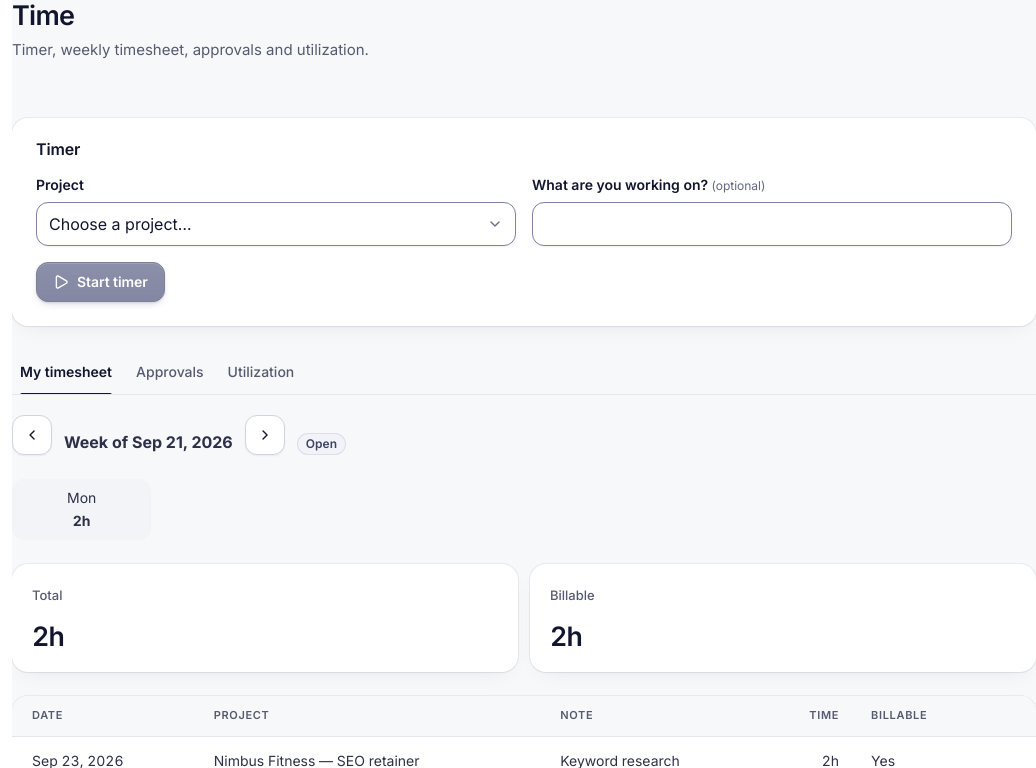
Test: Timesheet approvals › offers no decision on my own submitted week (someone else approves it) but does on a colleague’s
Click the tab "Approvals".
click(170, 372)  # box [128,350,212,394]
(page scrolled)
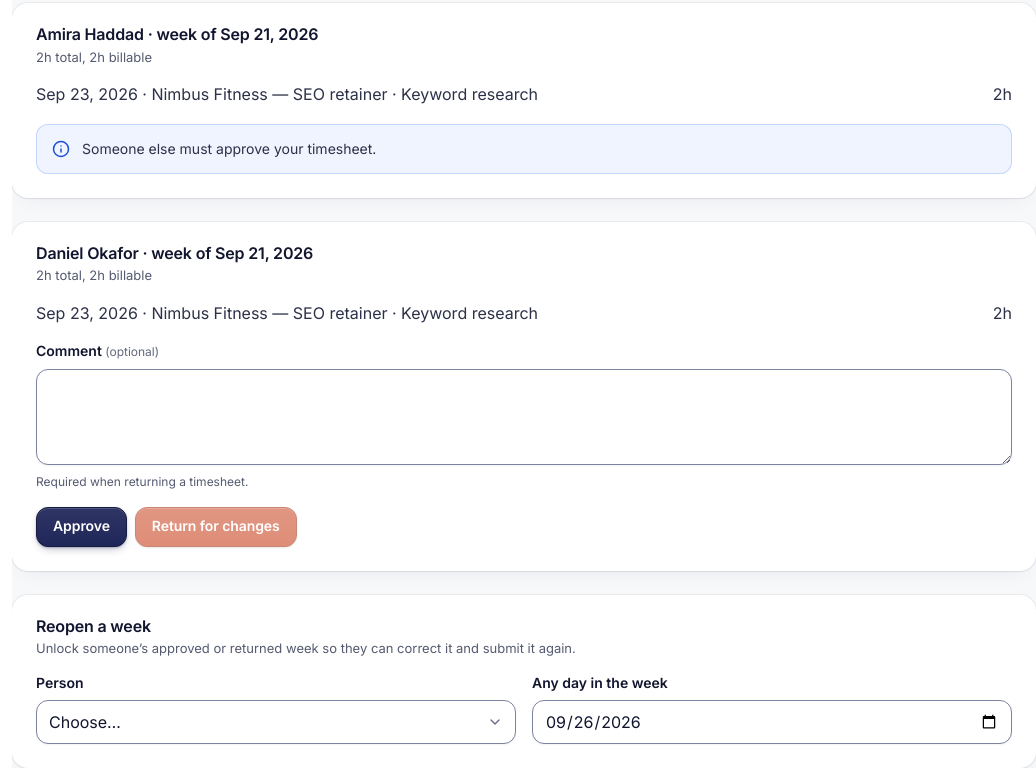
Result: the element named "Amira Haddad, week of" shows "Someone else must approve your timesheet" at [82,140,376,157]
Result: the button "Approve" is shown at [36,507,127,547]
